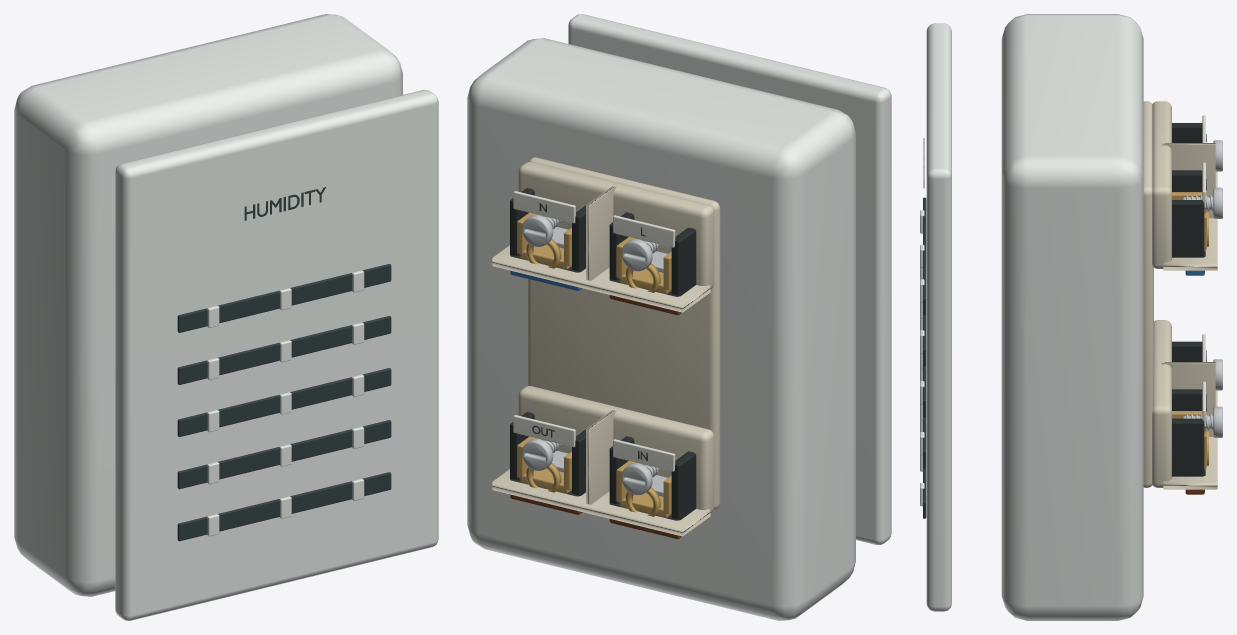
File: sensor_mode_humidity.glb
The picture shows the model from 3 angles, left to right: view 1: azimuth 30°, elevation 25°; view 2: azimuth 150°, elevation 25°; view 3: azimuth 270°, elevation 25°; orthographic projection. The views are drawn at different scales.
Parts seen in each view (by area): view 1: part:cover · Label plate, Rounded sensor mounting base, part:cover · Machinery thermoplastic; view 2: Rounded sensor mounting base, part:terminals · Original 5a609f27, part:cover · Label plate, detail:terminal-clamp:IN · Detail moulded engineering polyme, detail:terminal-clamp:L · Detail moulded engineering polymer, detail:terminal-clamp:L · Detail machined brass, detail:terminal-clamp:IN · Detail machined brass, detail:terminal-clamp:OUT · Detail machined brass, detail:terminal-clamp:N · Detail machined brass, detail:terminal-clamp:N · Detail moulded engineering polymer, detail:terminal-clamp:OUT · Detail moulded engineering polym, Moulded terminal legend pad (+7 smaller); view 3: Rounded sensor mounting base, part:cover · Label plate, part:terminals · Original 5a609f27, detail:terminal-clamp:OUT · Detail moulded engineering polym, detail:terminal-clamp:N · Detail moulded engineering polymer, part:cover · Machinery thermoplastic, detail:terminal-clamp:IN · Detail moulded engineering polyme, detail:terminal-clamp:L · Detail moulded engineering polymer, detail:terminal-clamp:OUT · Detail zinc plated fixing, detail:terminal-clamp:N · Detail zinc plated fixing.
Boxes of the visible parts, box(x1,y1,x2,y2) form: part:cover · Label plate: box(115, 89, 438, 620); Rounded sensor mounting base: box(14, 14, 402, 596); part:cover · Machinery thermoplastic: box(177, 187, 391, 541); Rounded sensor mounting base: box(467, 38, 855, 620); part:terminals · Original 5a609f27: box(492, 157, 720, 536); part:cover · Label plate: box(568, 14, 891, 545); detail:terminal-clamp:IN · Detail moulded engineering polyme: box(609, 436, 696, 520); detail:terminal-clamp:L · Detail moulded engineering polymer: box(609, 212, 696, 296); detail:terminal-clamp:L · Detail machined brass: box(616, 237, 671, 293); detail:terminal-clamp:IN · Detail machined brass: box(616, 461, 671, 517); detail:terminal-clamp:OUT · Detail machined brass: box(517, 436, 571, 493); detail:terminal-clamp:N · Detail machined brass: box(517, 212, 571, 269); detail:terminal-clamp:N · Detail moulded engineering polymer: box(510, 188, 585, 272); detail:terminal-clamp:OUT · Detail moulded engineering polym: box(510, 412, 585, 496); Moulded terminal legend pad: box(613, 215, 675, 247); Rounded sensor mounting base: box(1001, 14, 1143, 620); part:cover · Label plate: box(920, 23, 951, 611); part:terminals · Original 5a609f27: box(1143, 101, 1217, 489); detail:terminal-clamp:OUT · Detail moulded engineering polym: box(1172, 389, 1205, 476); detail:terminal-clamp:N · Detail moulded engineering polymer: box(1172, 170, 1205, 257); part:cover · Machinery thermoplastic: box(923, 138, 926, 518); detail:terminal-clamp:IN · Detail moulded engineering polyme: box(1172, 341, 1202, 361); detail:terminal-clamp:L · Detail moulded engineering polymer: box(1172, 123, 1202, 142); detail:terminal-clamp:OUT · Detail zinc plated fixing: box(1182, 406, 1222, 437); detail:terminal-clamp:N · Detail zinc plated fixing: box(1182, 187, 1222, 218).
Bounding box in the file's own units: 0.6262 × 0.8472 × 0.5022.
